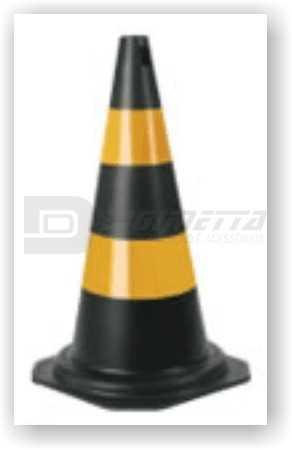traffic_cone: (31, 33, 252, 410)
